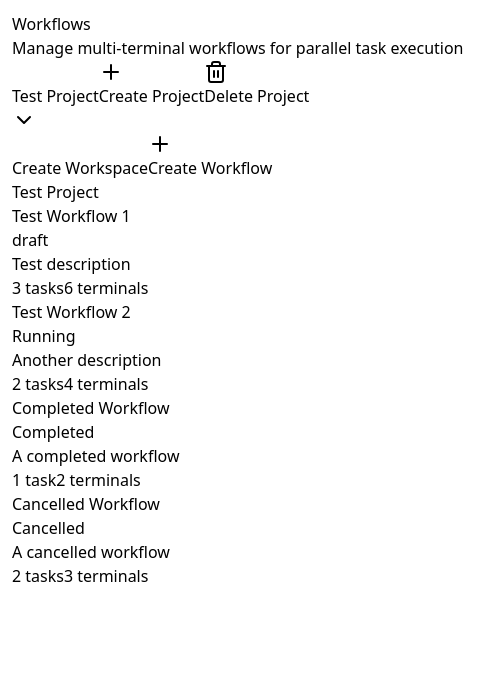
Scenario: Workflows Page › Prompt Interaction › keeps enter_confirm dialog open when workflow WS fallback send fails
Check: the heading "Completed Workflow" is shown, box top-left (12, 397), bottom-right (170, 419)
What coordinates should you click on to do the following:
click the text "Completed Workflow"
I would click on:
 (96, 444)
Its box is top-left (12, 397), bottom-right (180, 491).
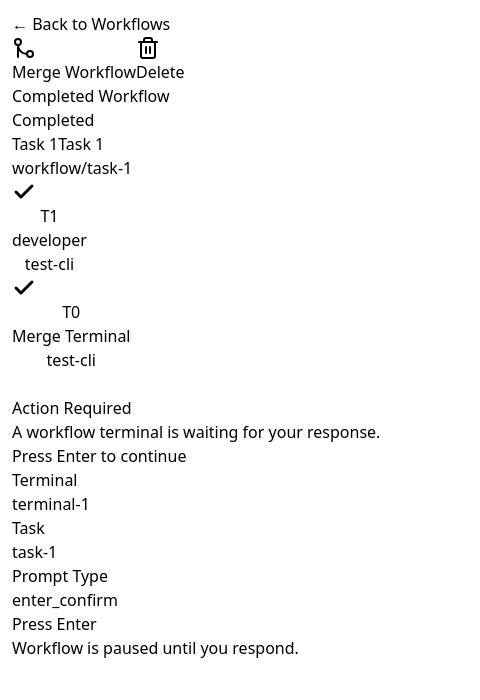
Check: the button "Merge Workflow" is shown, box top-left (12, 36), bottom-right (136, 84)
What coordinates should you click on to do the following:
click the button with test id "workflow-prompt-enter-confirm"
I would click on:
 (54, 624)
Its box is top-left (12, 612), bottom-right (97, 636).
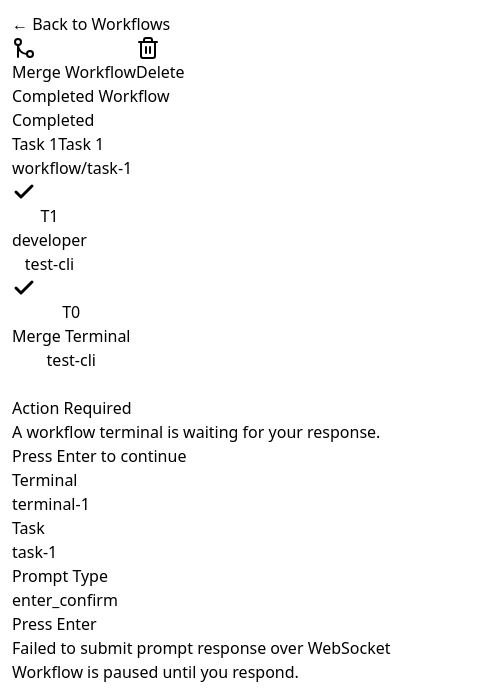
Check: the element with test id "workflow-prompt-dialog" is shown, box top-left (12, 397), bottom-right (391, 683)
Check: the text "Failed to submit prompt response over WebSocket" is shown, box top-left (12, 637), bottom-right (391, 659)
